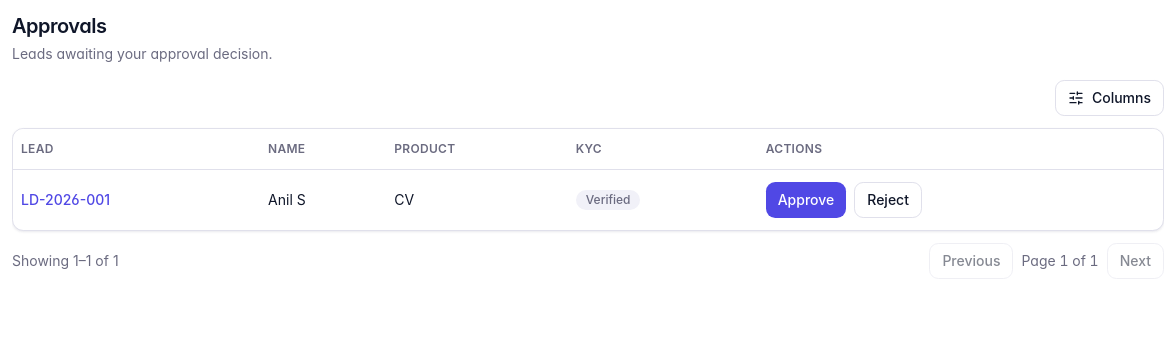
it: ApprovalsPage › AP-05: clicking Reject reveals reason input and cancel button
What coordinates should you click on to do the following:
click the button with aria-label "reject lead LD-2026-001"
I would click on:
 (888, 200)
Its box is [854,182,922,218].
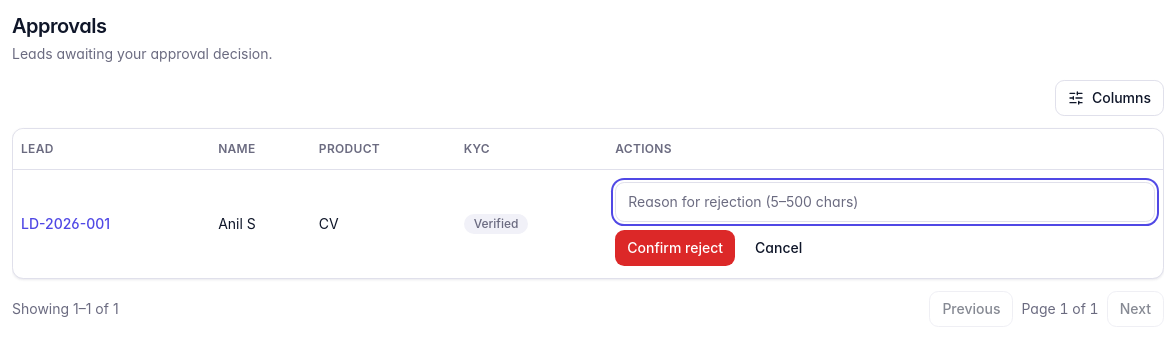
Now the field with placeholder "Reason for rejection (5–500 chars)" is shown, box [615,182,1155,222]
Now the button with aria-label "confirm rejection" is shown, box [615,230,735,266]
Now the button "Cancel" is shown, box [743,230,814,266]
